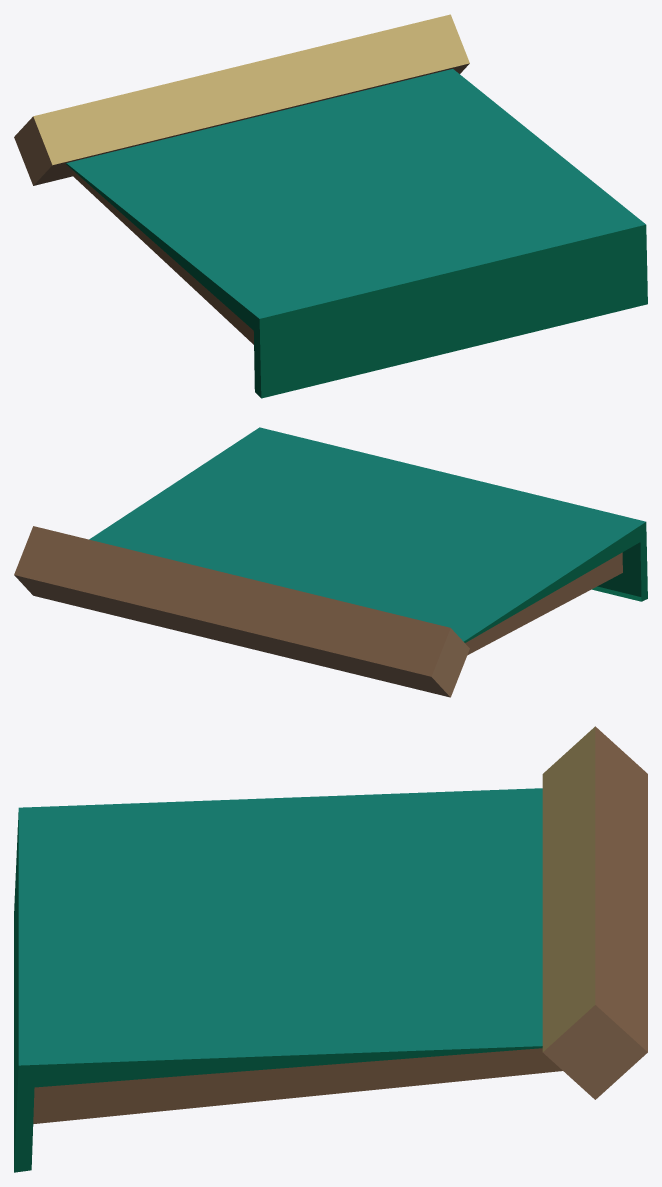
Rendered from TB_D_Bd_Canopy_Sol_G.FBX.
3 renders of one model, top to bottom at view 1: azimuth 30°, elevation 25°; view 2: azimuth 150°, elevation 25°; view 3: azimuth 270°, elevation 25°, orthographic. The views are drawn at different scales.
Parts seen in each view (by area): view 1: TB_D_Bd_Canopy_Sol_G; view 2: TB_D_Bd_Canopy_Sol_G; view 3: TB_D_Bd_Canopy_Sol_G.
Boxes of the visible parts, x1,y1,x2,y2 form: TB_D_Bd_Canopy_Sol_G: [14, 14, 647, 398]; TB_D_Bd_Canopy_Sol_G: [14, 427, 647, 697]; TB_D_Bd_Canopy_Sol_G: [14, 726, 647, 1172].
Bounding box in the file's own units: 1.88 × 0.5606 × 1.81.
